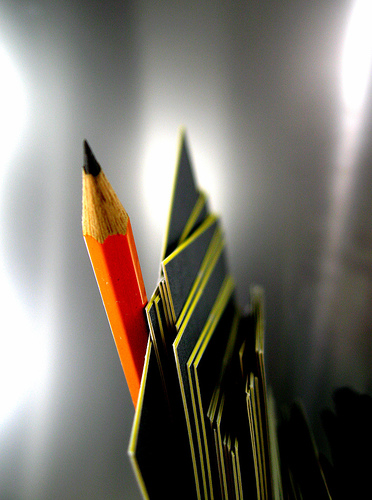pen_tip: (67, 132, 146, 270)
